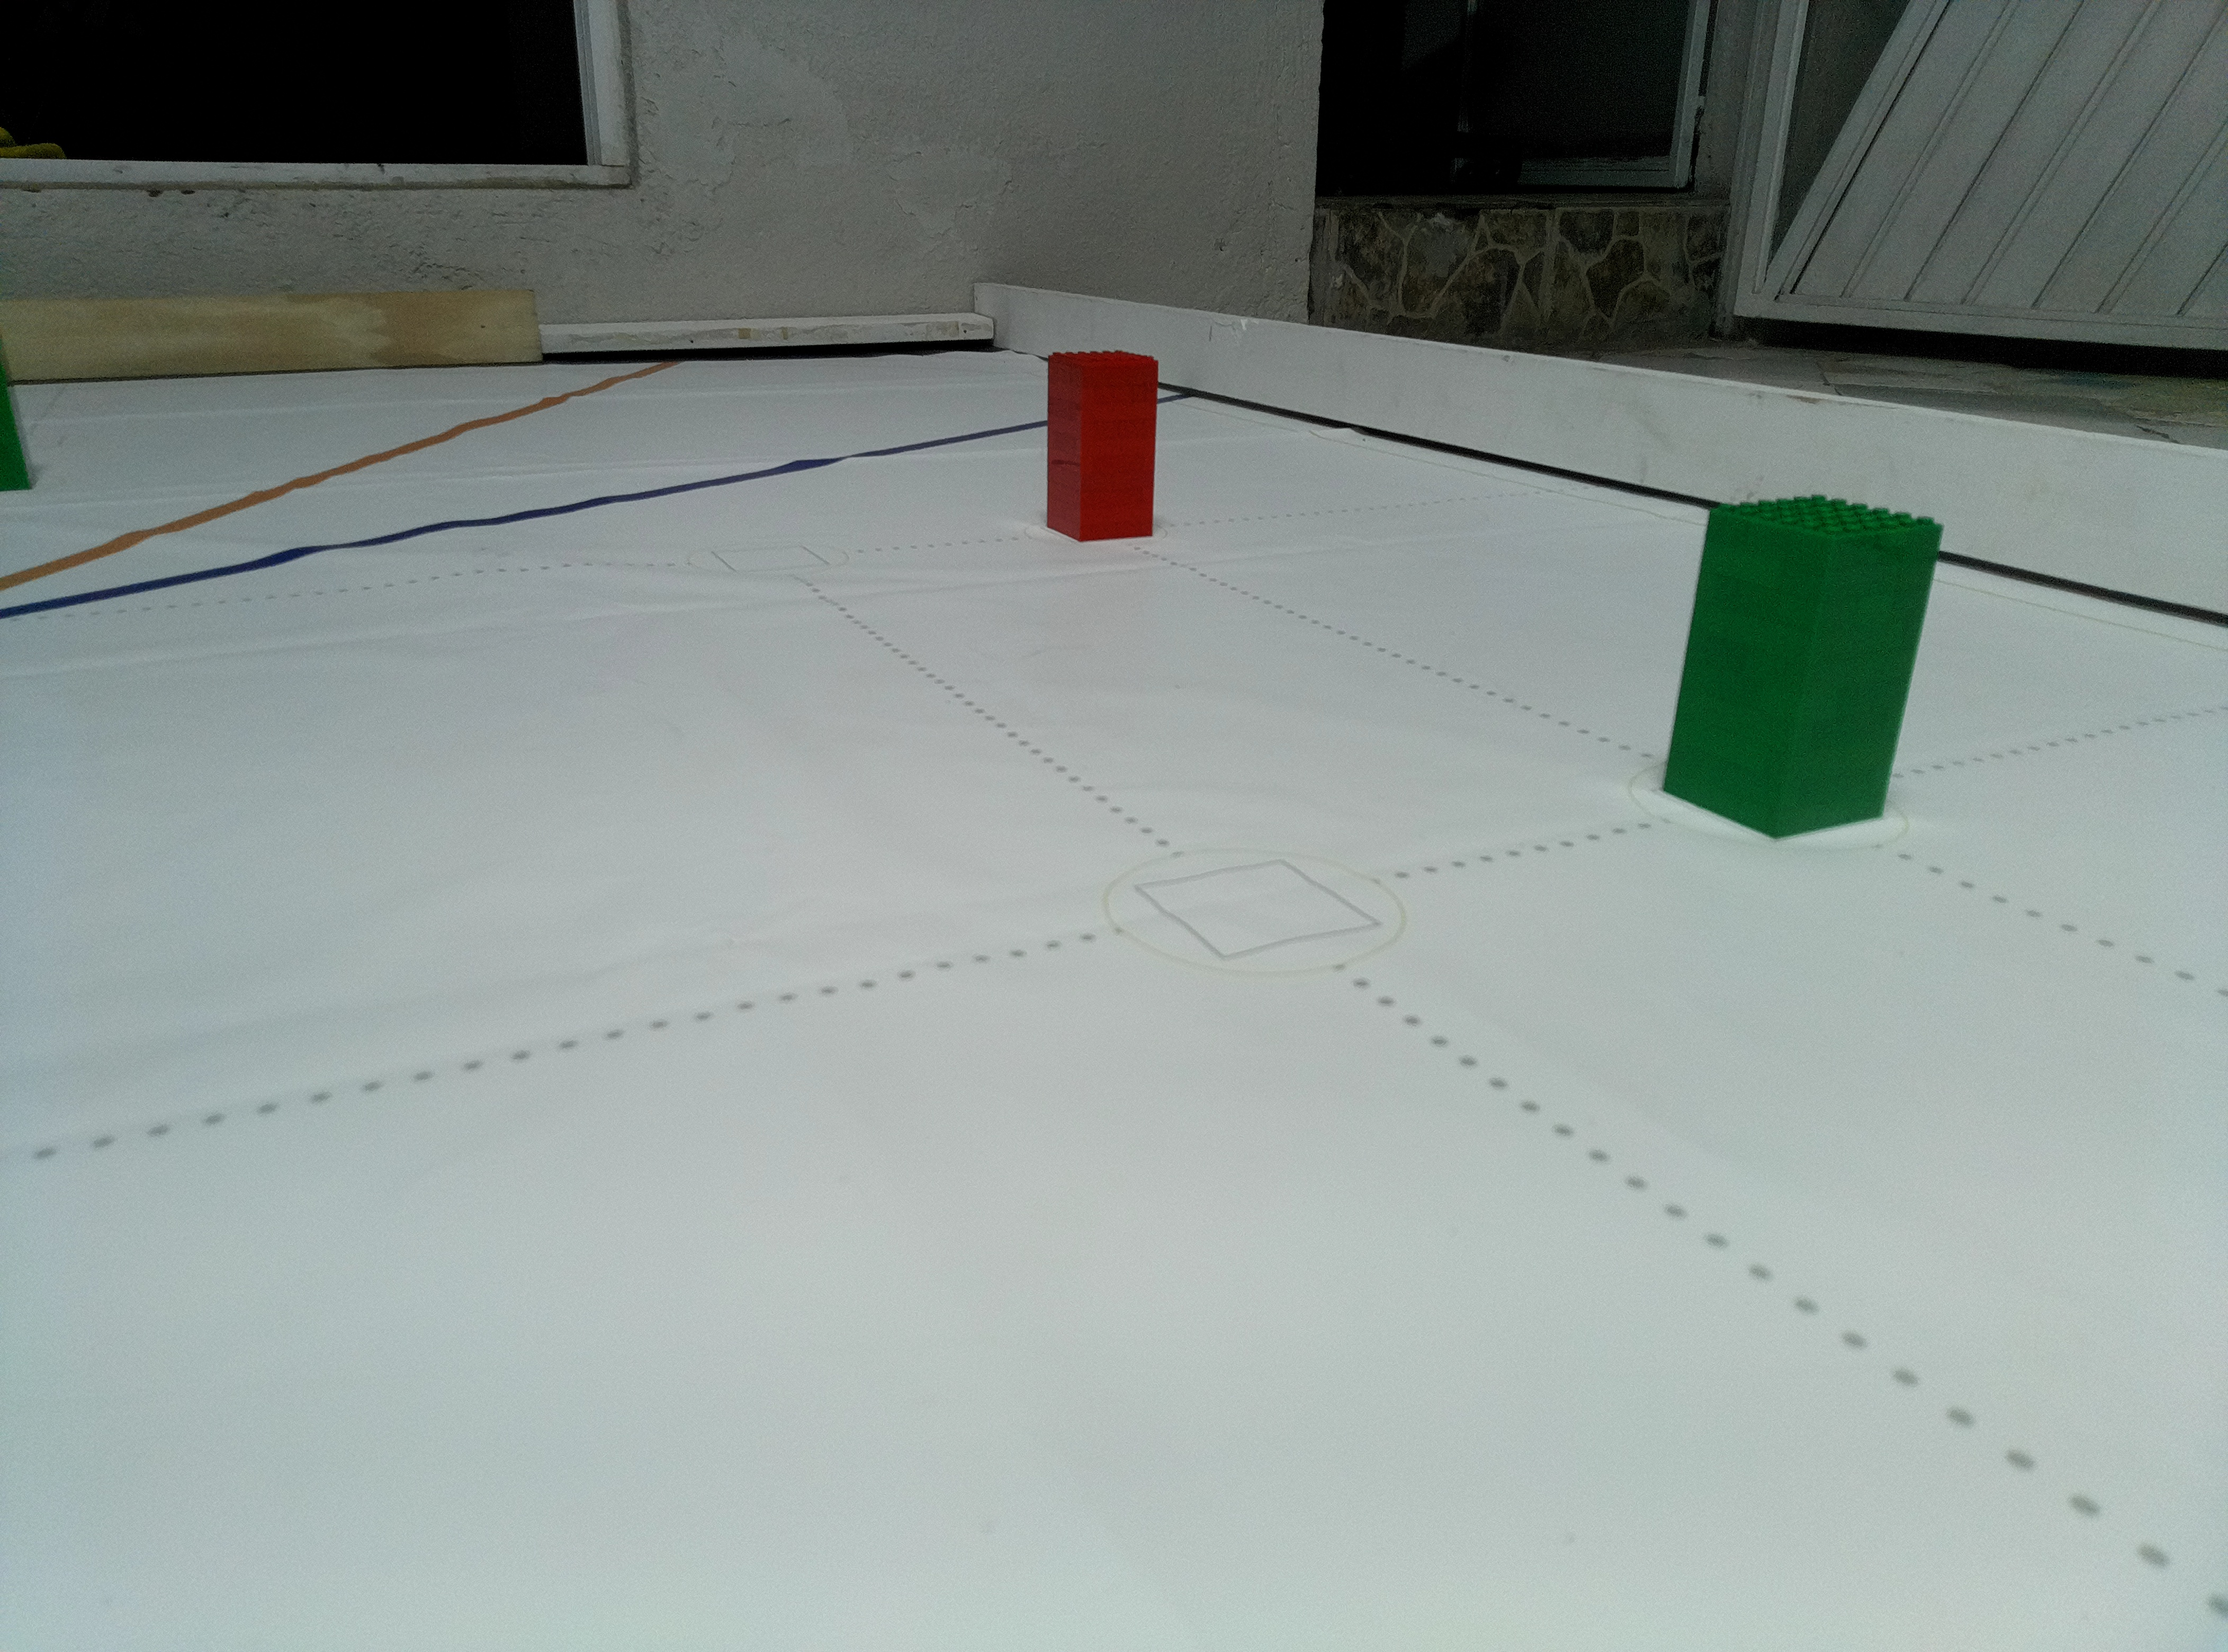greenbox: (1655, 479, 1947, 843), (0, 326, 42, 496)
redbox: (1043, 345, 1159, 543)
